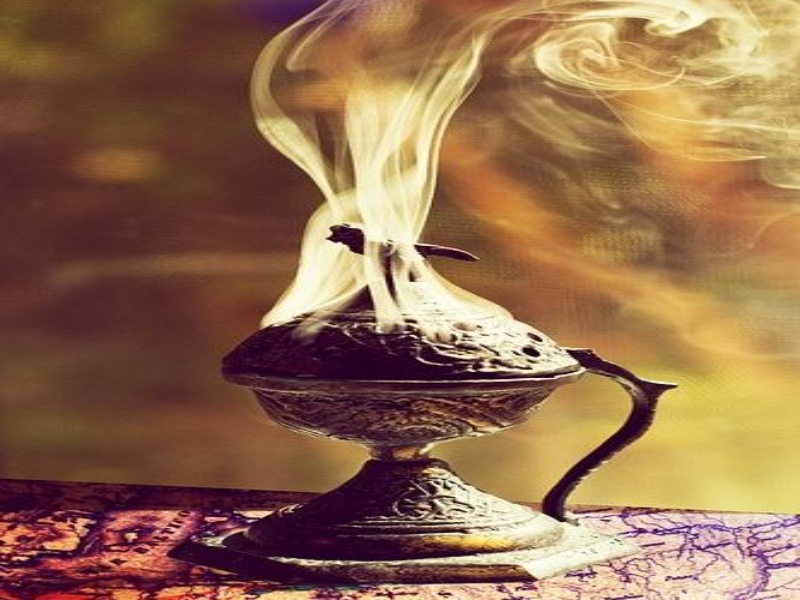smoke: (266, 5, 429, 237)
